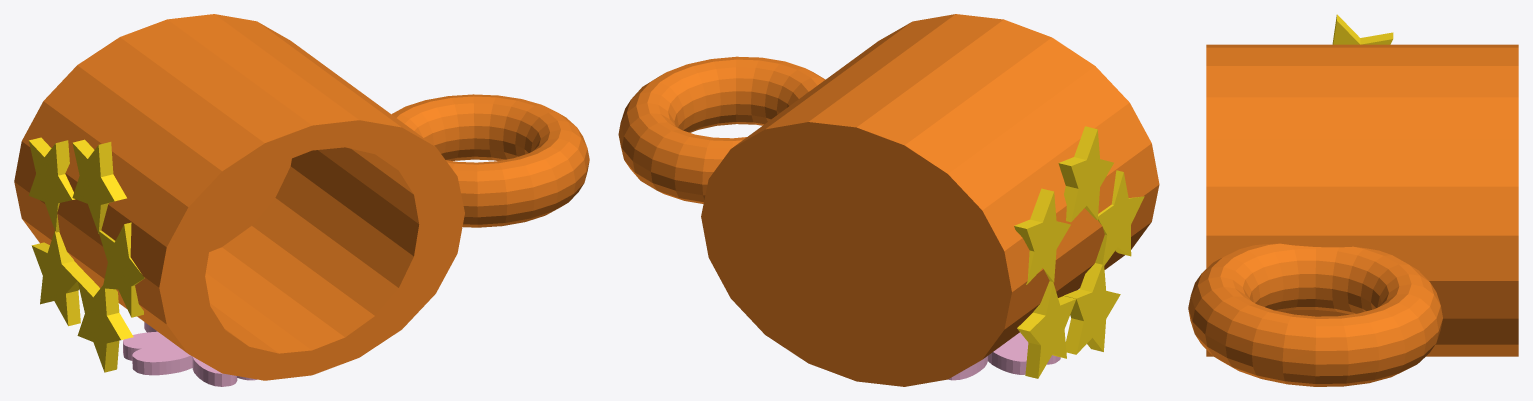
File: tinker.obj
3 renders of one model, left to right at view 1: azimuth 30°, elevation 25°; view 2: azimuth 150°, elevation 25°; view 3: azimuth 270°, elevation 25°, orthographic. The views are drawn at different scales.
Visible parts, largest first — view 1: group_0_16089887, group_0_16768282, group_0_15708628; view 2: group_0_16089887, group_0_16768282, group_0_15708628; view 3: group_0_16089887, group_0_16768282.
Boxes of the visible parts, x1,y1,x2,y2 form: group_0_16089887: (14, 14, 589, 380); group_0_16768282: (28, 137, 144, 372); group_0_15708628: (123, 322, 256, 386); group_0_16089887: (618, 14, 1159, 386); group_0_16768282: (1014, 126, 1144, 378); group_0_15708628: (948, 332, 1060, 380); group_0_16089887: (1188, 44, 1518, 386); group_0_16768282: (1332, 14, 1393, 44).
Size of the model in its own units: 37 by 20 by 21.16.
